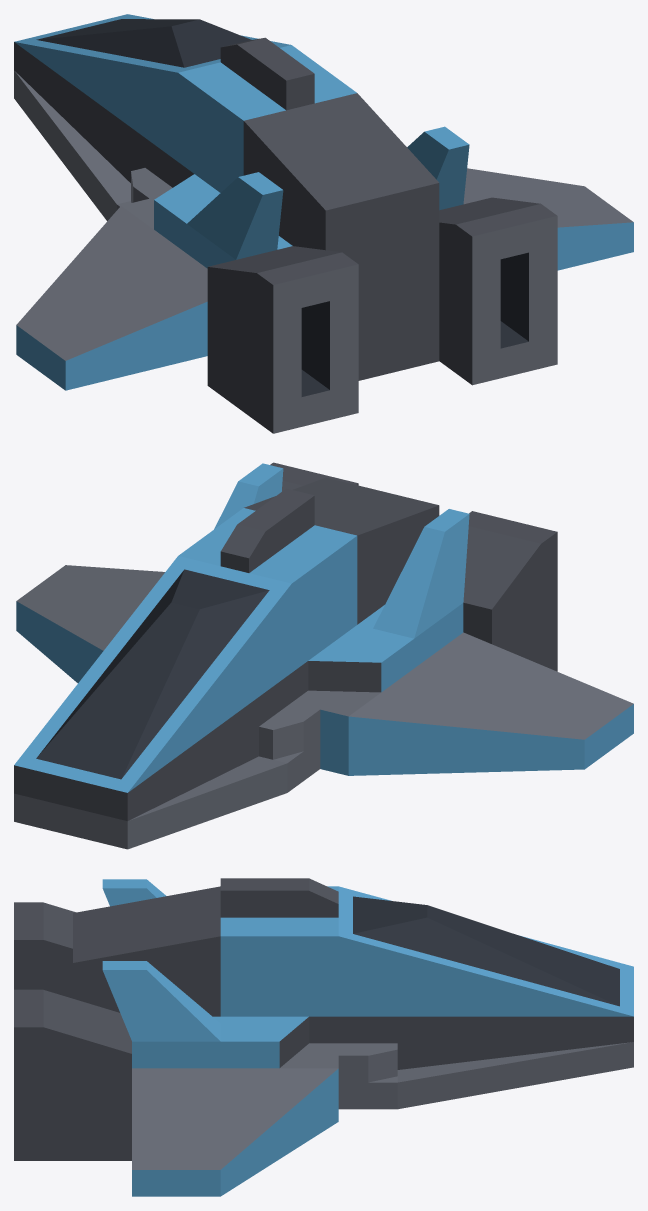
The model's file is drone_gun.glb.
The picture shows the model from 3 angles, top to bottom: view 1: azimuth 30°, elevation 25°; view 2: azimuth 150°, elevation 25°; view 3: azimuth 270°, elevation 25°; orthographic projection. The views are drawn at different scales.
Visible parts, largest first — view 1: body; view 2: body; view 3: body.
Part boxes in pixels (x1,y1,x2,y2): body: (14,14,633,433); body: (14,462,633,849); body: (14,878,633,1196).
Bounding box in the file's own units: 0.9524 × 0.381 × 1.
